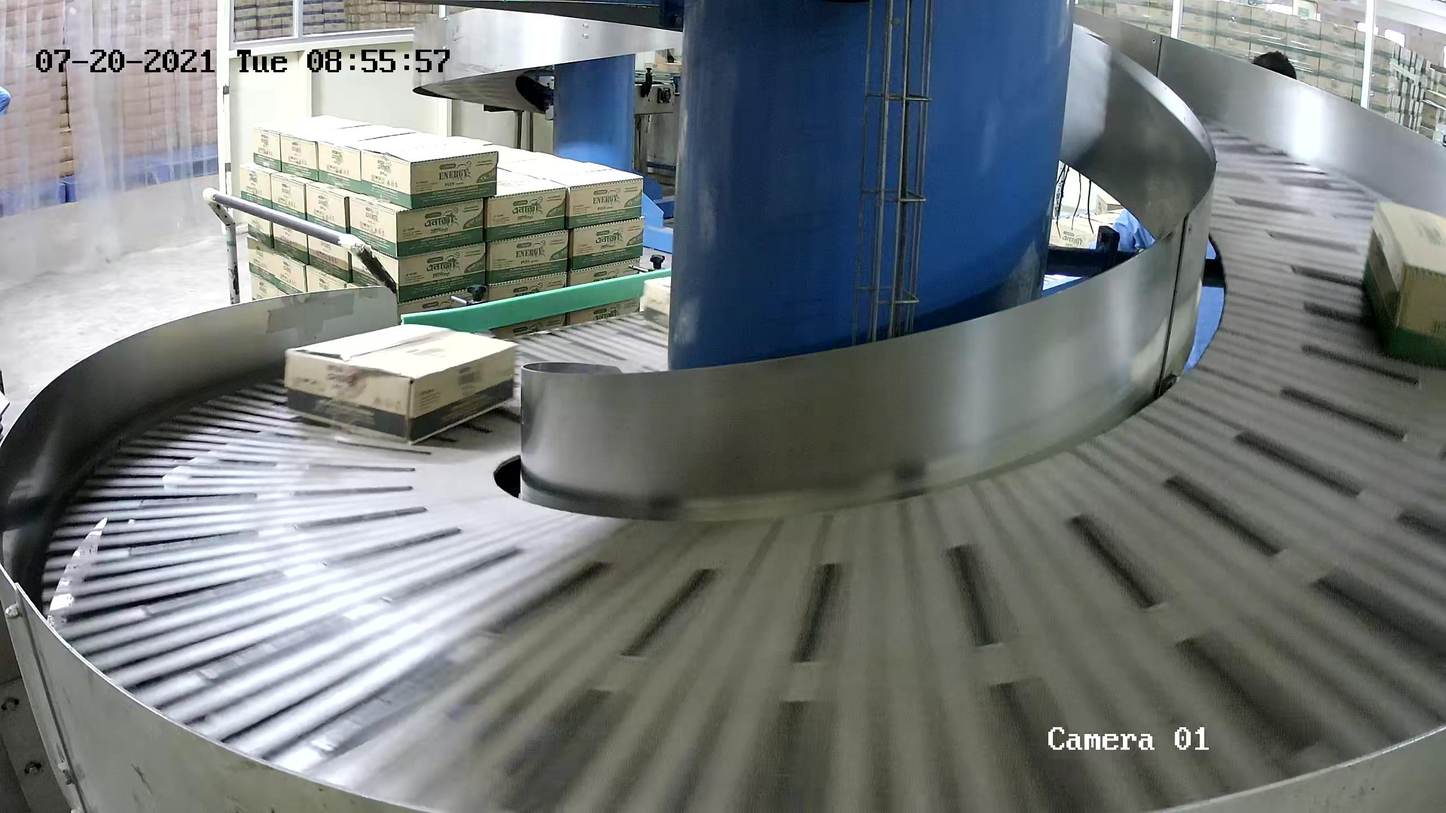Box: (283, 322, 520, 446), (1359, 200, 1446, 369), (642, 275, 672, 335)
